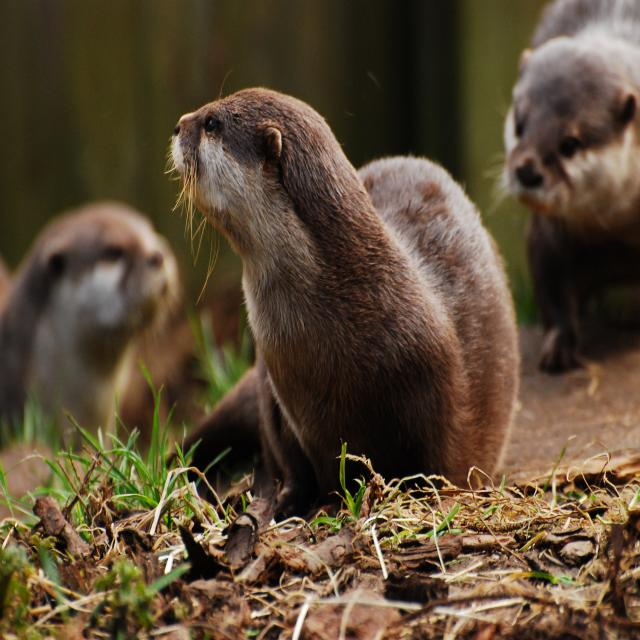otter: (171, 89, 518, 498)
